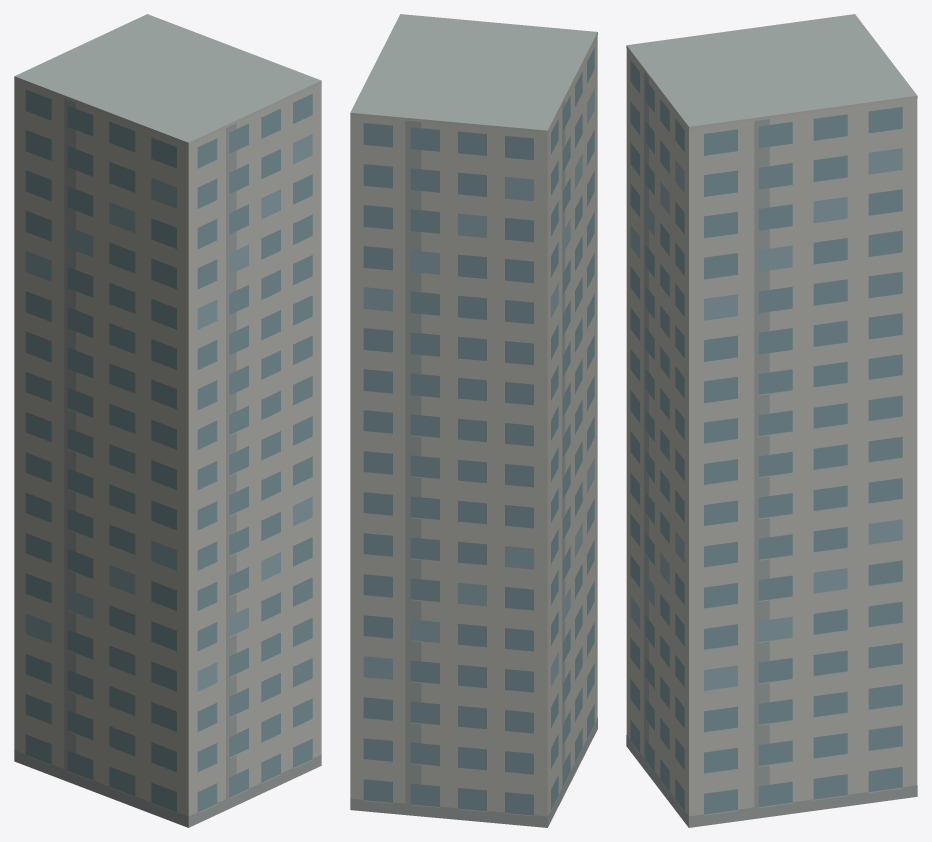
File: residential-59f559b2-dbe7-4b03-a88c-aaa89b479602.glb
3 renders of one model, left to right at view 1: azimuth 30°, elevation 25°; view 2: azimuth 150°, elevation 25°; view 3: azimuth 270°, elevation 25°, orthographic. The views are drawn at different scales.
Visible parts, largest first — view 1: residential-59f559b2-dbe7-4b03-a88c-aaa89b479602.tmp; view 2: residential-59f559b2-dbe7-4b03-a88c-aaa89b479602.tmp; view 3: residential-59f559b2-dbe7-4b03-a88c-aaa89b479602.tmp.
Boxes of the visible parts, x1,y1,x2,y2 form: residential-59f559b2-dbe7-4b03-a88c-aaa89b479602.tmp: (14,14,321,827); residential-59f559b2-dbe7-4b03-a88c-aaa89b479602.tmp: (350,14,597,827); residential-59f559b2-dbe7-4b03-a88c-aaa89b479602.tmp: (626,14,917,827).
Bounding box in the file's own units: 19.69 × 57 × 21.45.
